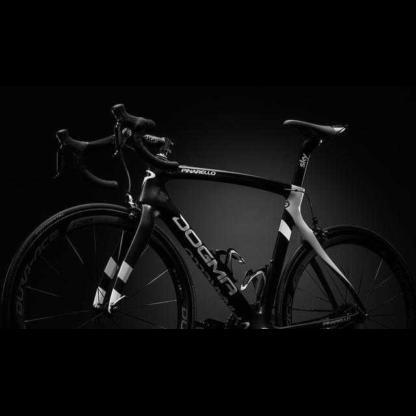Bicycle: (0, 86, 415, 327)
